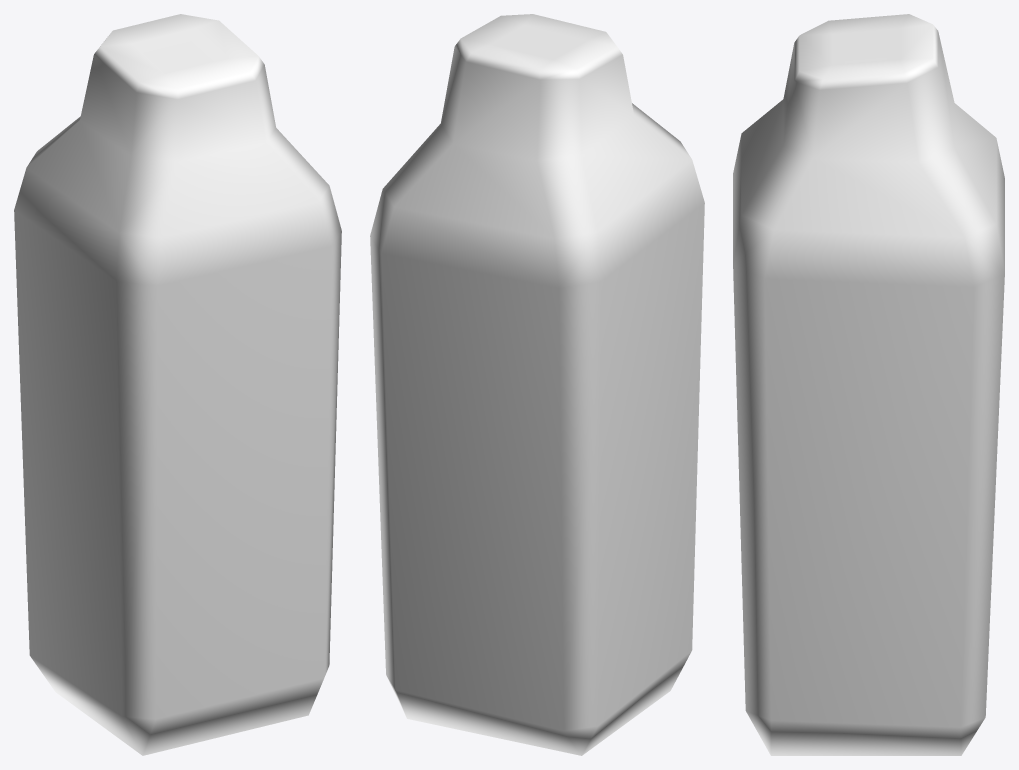
The model's file is CharSkyKid_Prop_NatureSculptureC.glb.
The picture shows the model from 3 angles, left to right: view 1: azimuth 30°, elevation 25°; view 2: azimuth 150°, elevation 25°; view 3: azimuth 270°, elevation 25°; orthographic projection. The views are drawn at different scales.
Visible parts, largest first — view 1: CharSkyKid_Prop_NatureSculptureC; view 2: CharSkyKid_Prop_NatureSculptureC; view 3: CharSkyKid_Prop_NatureSculptureC.
Part boxes in pixels (x1,y1,x2,y2): CharSkyKid_Prop_NatureSculptureC: (14,14,341,755); CharSkyKid_Prop_NatureSculptureC: (370,14,704,755); CharSkyKid_Prop_NatureSculptureC: (733,14,1004,755).
Bounding box in the file's own units: 0.2384 × 0.6601 × 0.2417.
1 material, 1 textured.
